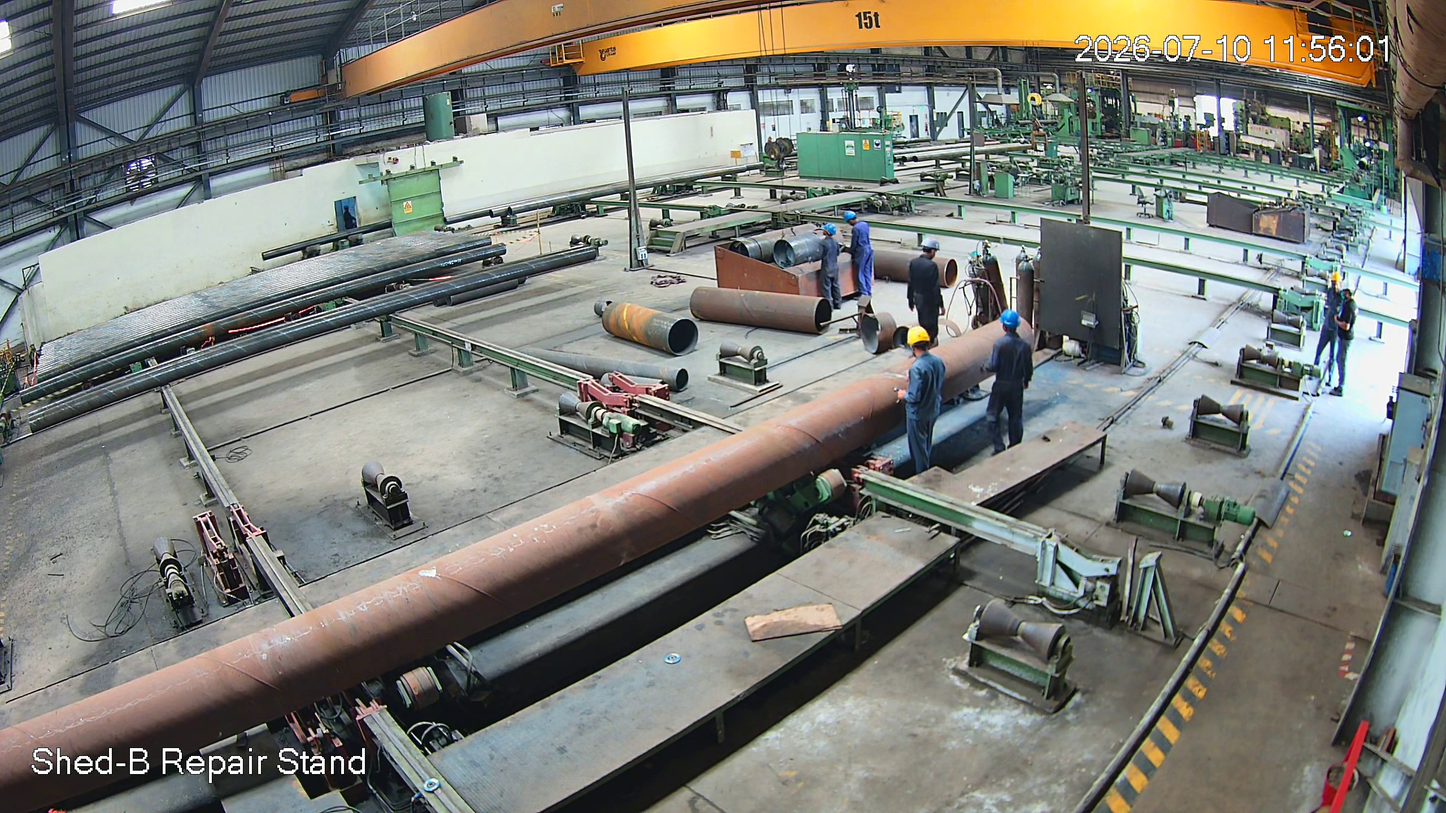Helmet: (901, 322, 939, 368), (995, 305, 1027, 340), (915, 233, 943, 272), (818, 219, 841, 245), (842, 206, 862, 231), (1328, 269, 1343, 292)
Person: (899, 325, 951, 477), (991, 309, 1033, 460), (907, 236, 949, 350), (842, 208, 880, 302), (816, 222, 848, 321), (1316, 272, 1344, 380), (1341, 280, 1364, 397)
